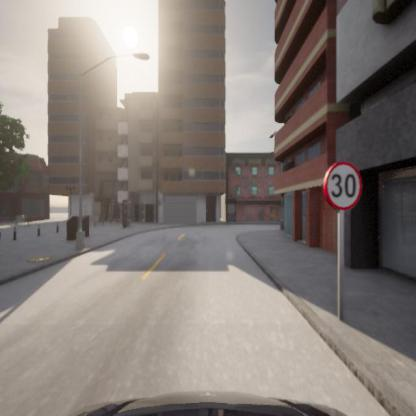traffic_sign_30: (322, 161, 363, 209)
